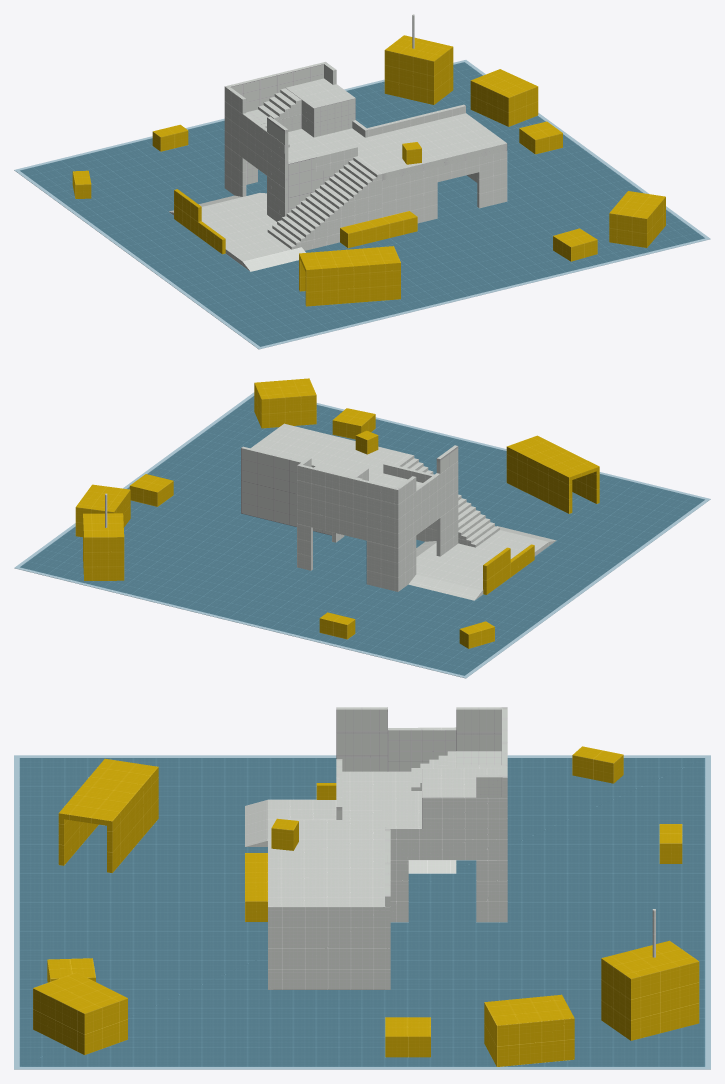
Rendered from testenvironment.glb.
3 renders of one model, top to bottom at view 1: azimuth 30°, elevation 25°; view 2: azimuth 150°, elevation 25°; view 3: azimuth 270°, elevation 25°, orthographic. The views are drawn at different scales.
Visible parts, largest first — view 1: Ground_Mesh, Structure_Prefab, Box_350x250x200_Prefab (×2), Stairs_650_400_300_Prefab, Tunnel_Prefab, Ramp_Mesh, Box_350x250x300_Prefab, border (×4), Cube (96), Cube (103), Wall_Prefab, Cube (111) (+3 smaller); view 2: Ground_Mesh, Structure_Prefab, Tunnel_Prefab, Ramp_Mesh, Box_350x250x200_Prefab (×2), Cube (127), border (×4), Box_350x250x300_Prefab, Stairs_650_400_300_Prefab, Wall_Prefab, Cube (79); view 3: Ground_Mesh, Structure_Prefab, Box_350x250x200_Prefab (×2), Box_350x250x300_Prefab, Tunnel_Prefab, border (×4), Cube (79), Ramp_Mesh, Cube (87), Cube (81), Box_100x100x100_Prefab (15), Box_100x100x100_Prefab (13) (+8 smaller).
Boxes of the visible parts, <box> form: Ground_Mesh: <box>20,62,704,346</box>; Structure_Prefab: <box>224,78,507,245</box>; Box_350x250x200_Prefab (×2): <box>470,69,665,247</box>; Stairs_650_400_300_Prefab: <box>267,156,381,249</box>; Tunnel_Prefab: <box>299,246,400,306</box>; Ramp_Mesh: <box>169,193,326,271</box>; Box_350x250x300_Prefab: <box>384,35,453,104</box>; border (×4): <box>14,60,710,349</box>; Cube (96): <box>225,62,326,111</box>; Cube (103): <box>288,155,342,212</box>; Wall_Prefab: <box>174,189,225,254</box>; Cube (111): <box>314,98,355,137</box>; Ground_Mesh: <box>20,396,704,675</box>; Structure_Prefab: <box>251,423,458,591</box>; Tunnel_Prefab: <box>506,435,599,513</box>; Ramp_Mesh: <box>408,526,556,600</box>; Box_350x250x200_Prefab (×2): <box>75,378,316,537</box>; Cube (127): <box>241,446,331,535</box>; border (×4): <box>14,392,710,678</box>; Box_350x250x300_Prefab: <box>83,513,124,580</box>; Stairs_650_400_300_Prefab: <box>395,454,499,547</box>; Wall_Prefab: <box>483,544,534,594</box>; Cube (79): <box>436,445,458,556</box>; Ground_Mesh: <box>19,758,705,1066</box>; Structure_Prefab: <box>268,727,507,989</box>; Box_350x250x200_Prefab (×2): <box>33,972,574,1066</box>; Box_350x250x300_Prefab: <box>601,940,699,1040</box>; Tunnel_Prefab: <box>58,758,158,873</box>; border (×4): <box>14,755,710,1069</box>; Cube (79): <box>336,707,387,771</box>; Ramp_Mesh: <box>245,799,456,873</box>; Cube (87): <box>388,728,456,771</box>; Cube (81): <box>456,707,501,750</box>; Box_100x100x100_Prefab (15): <box>593,750,623,783</box>; Box_100x100x100_Prefab (13): <box>271,818,298,850</box>.
Size of what is drawn, in the model's own units: 32.5 by 7.02 by 30.5.
Materials: 5 (4 with a texture image).
